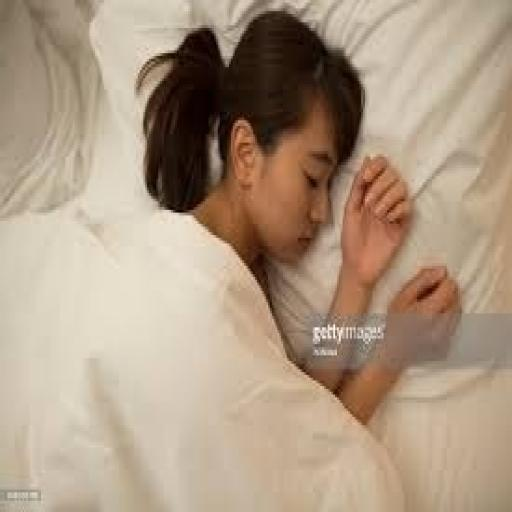sleeping: (132, 8, 464, 428)
